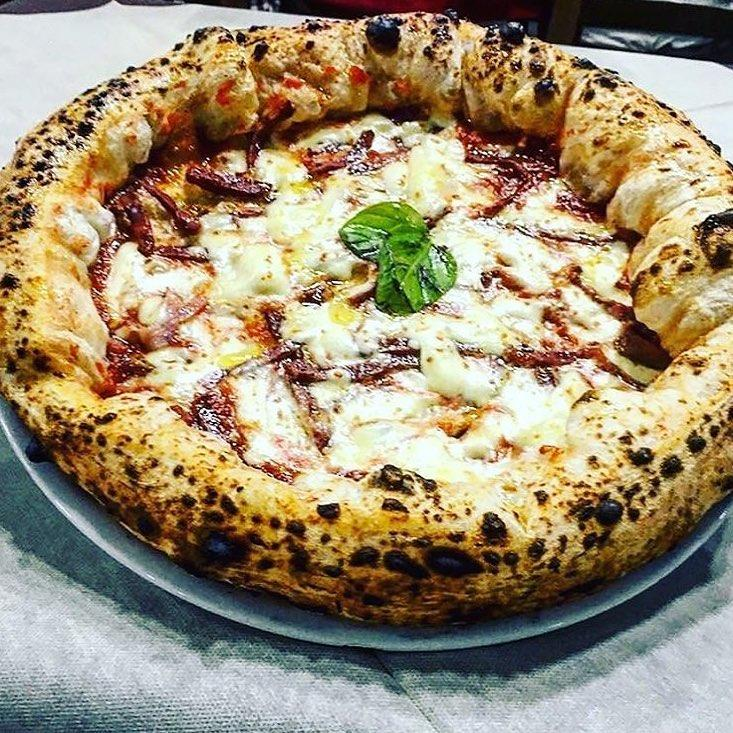Basil: (375, 243, 457, 316), (339, 203, 430, 264)
Cheese: (383, 381, 530, 438), (227, 222, 313, 274), (404, 160, 462, 194)
Pizza: (0, 10, 733, 630)
